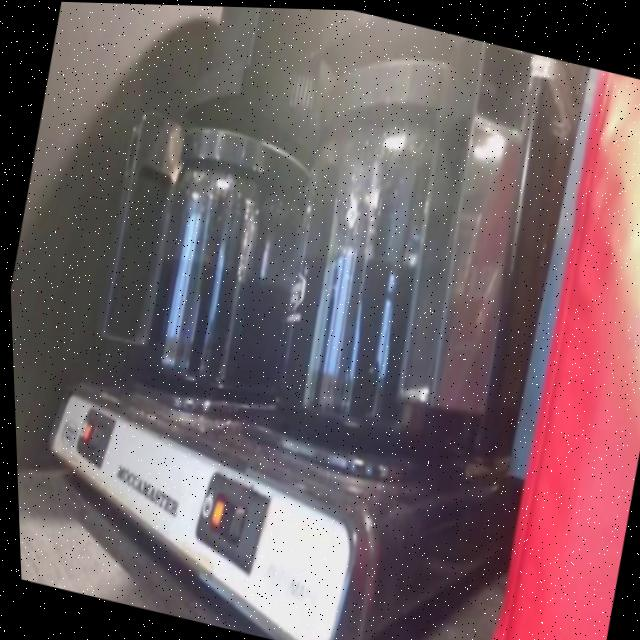coffee: (237, 25, 591, 513), (104, 76, 341, 426)
